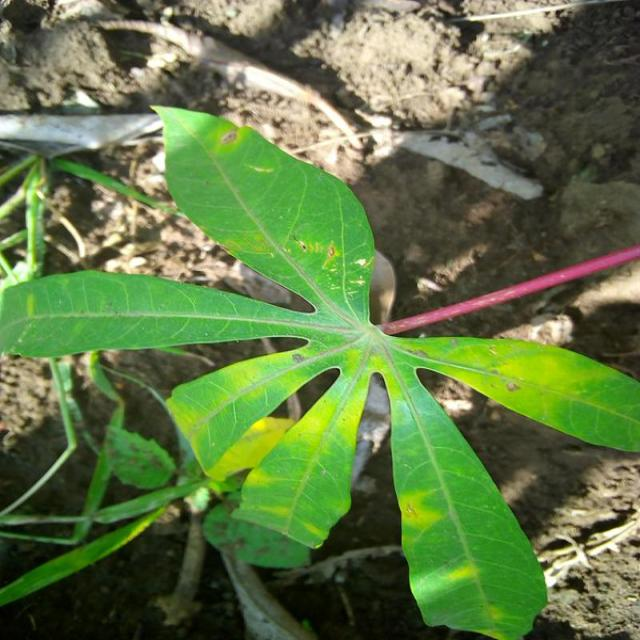cassava leaf: (1, 101, 638, 638)
